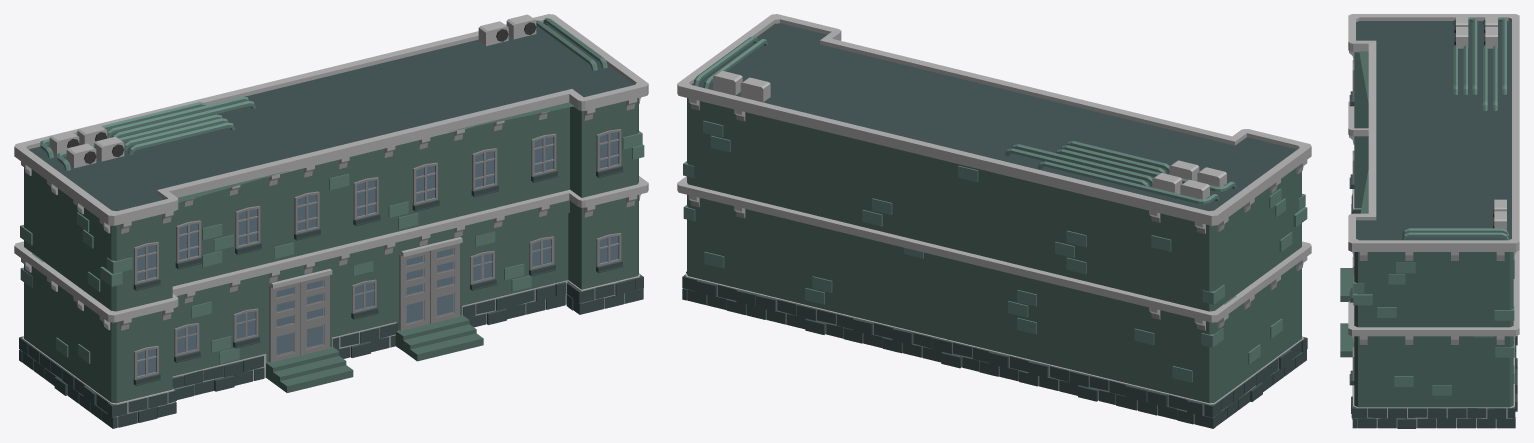
File: 2Story_Wide_2Doors_Mat.gltf
The picture shows the model from 3 angles, left to right: view 1: azimuth 30°, elevation 25°; view 2: azimuth 150°, elevation 25°; view 3: azimuth 270°, elevation 25°; orthographic projection. The views are drawn at different scales.
Visible parts, largest first — view 1: o 2Story_Wide_2Doors_Mat_Cube.018; view 2: o 2Story_Wide_2Doors_Mat_Cube.018; view 3: o 2Story_Wide_2Doors_Mat_Cube.018.
Part boxes in pixels (x1=…): o 2Story_Wide_2Doors_Mat_Cube.018: x1=14, y1=14, x2=648, y2=428; o 2Story_Wide_2Doors_Mat_Cube.018: x1=677, y1=14, x2=1311, y2=428; o 2Story_Wide_2Doors_Mat_Cube.018: x1=1340, y1=14, x2=1519, y2=428.
Bounding box in the file's own units: 6.83 × 2.75 × 2.26.
